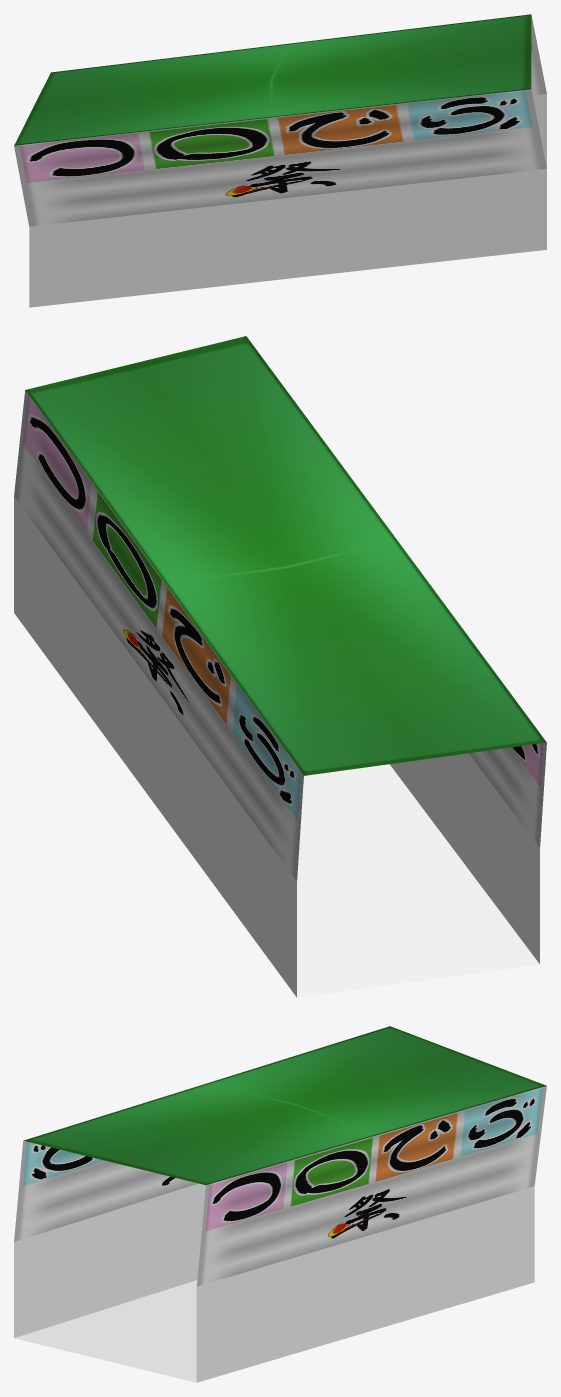
Rendered from CourseWinter_Wall_L_17_11.fbx.
The picture shows the model from 3 angles, top to bottom: view 1: azimuth 30°, elevation 25°; view 2: azimuth 150°, elevation 25°; view 3: azimuth 270°, elevation 25°; orthographic projection. The views are drawn at different scales.
Parts seen in each view (by area): view 1: polySurface618; view 2: polySurface618; view 3: polySurface618.
Boxes of the visible parts, <box> form: polySurface618: <box>14,14,546,307</box>; polySurface618: <box>14,336,546,997</box>; polySurface618: <box>14,1026,546,1382</box>.
Bounding box in the file's own units: 5.84 × 2.98 × 5.02.
1 material, 1 textured.
